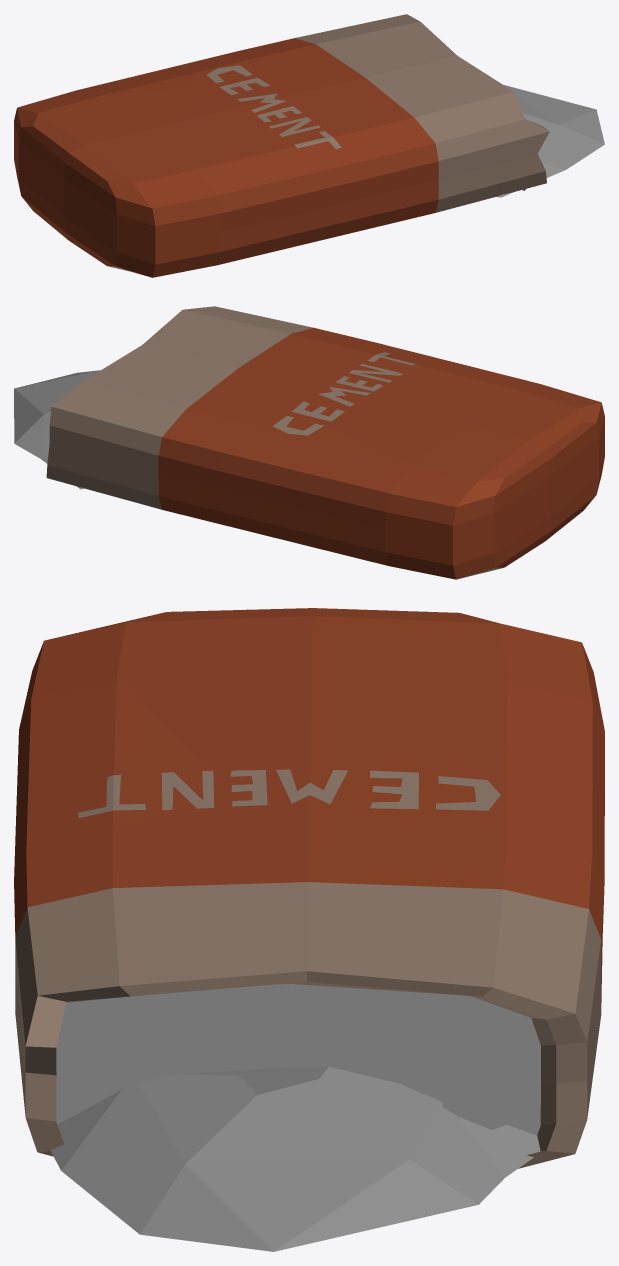
The model's file is CementC2_03.fbx.
3 views of the same model, one above another, from view 1: azimuth 30°, elevation 25°; view 2: azimuth 150°, elevation 25°; view 3: azimuth 270°, elevation 25° (orthographic). The views are drawn at different scales.
Visible parts, largest first — view 1: CementC2_03; view 2: CementC2_03; view 3: CementC2_03.
Boxes of the visible parts, x1,y1,x2,y2 form: CementC2_03: (14,14,604,277); CementC2_03: (14,306,604,579); CementC2_03: (14,608,604,1251).
Bounding box in the file's own units: 72.45 × 12.76 × 36.24.
